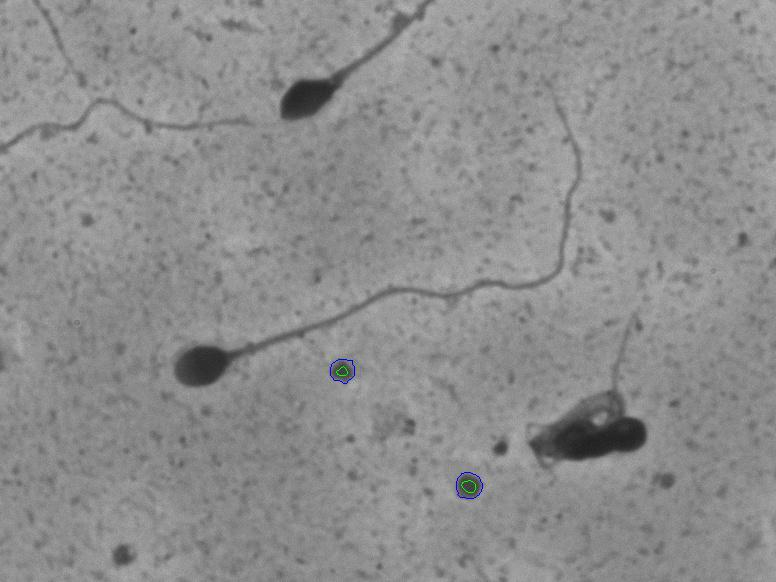Abnormal: (519, 293, 690, 505), (240, 7, 432, 140)
Normal: (159, 68, 591, 401)
